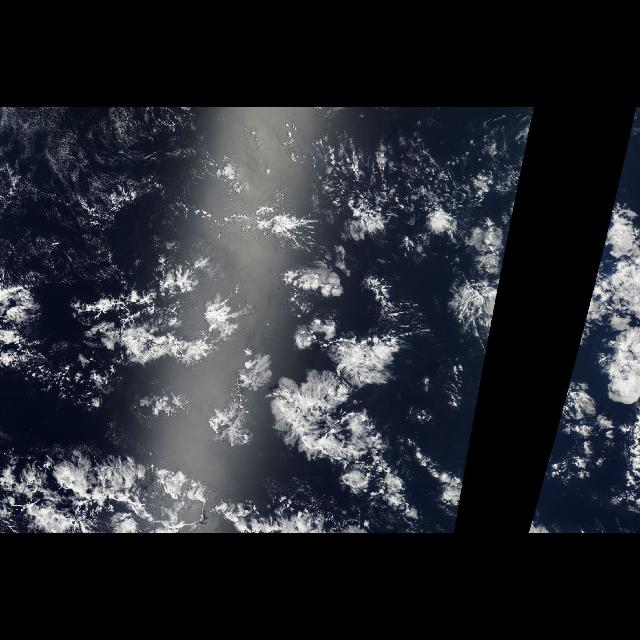Flower: (188, 196, 516, 489), (539, 381, 569, 489)
